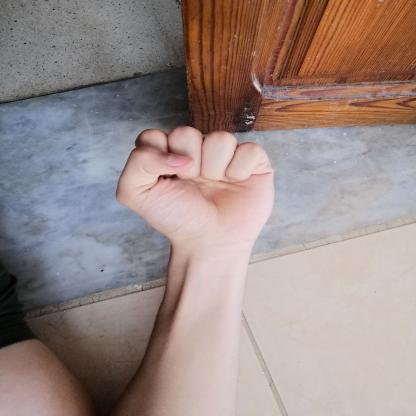SAD: (99, 116, 296, 258)
